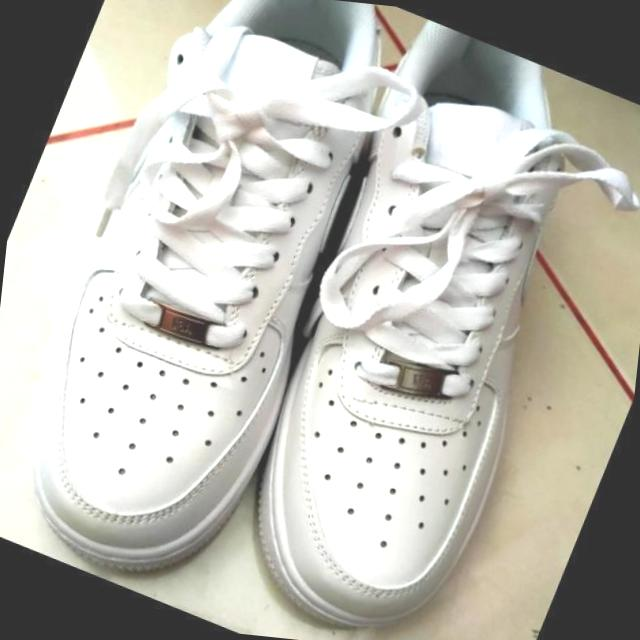nike_original_airforce: (173, 0, 640, 640), (0, 0, 440, 628)
